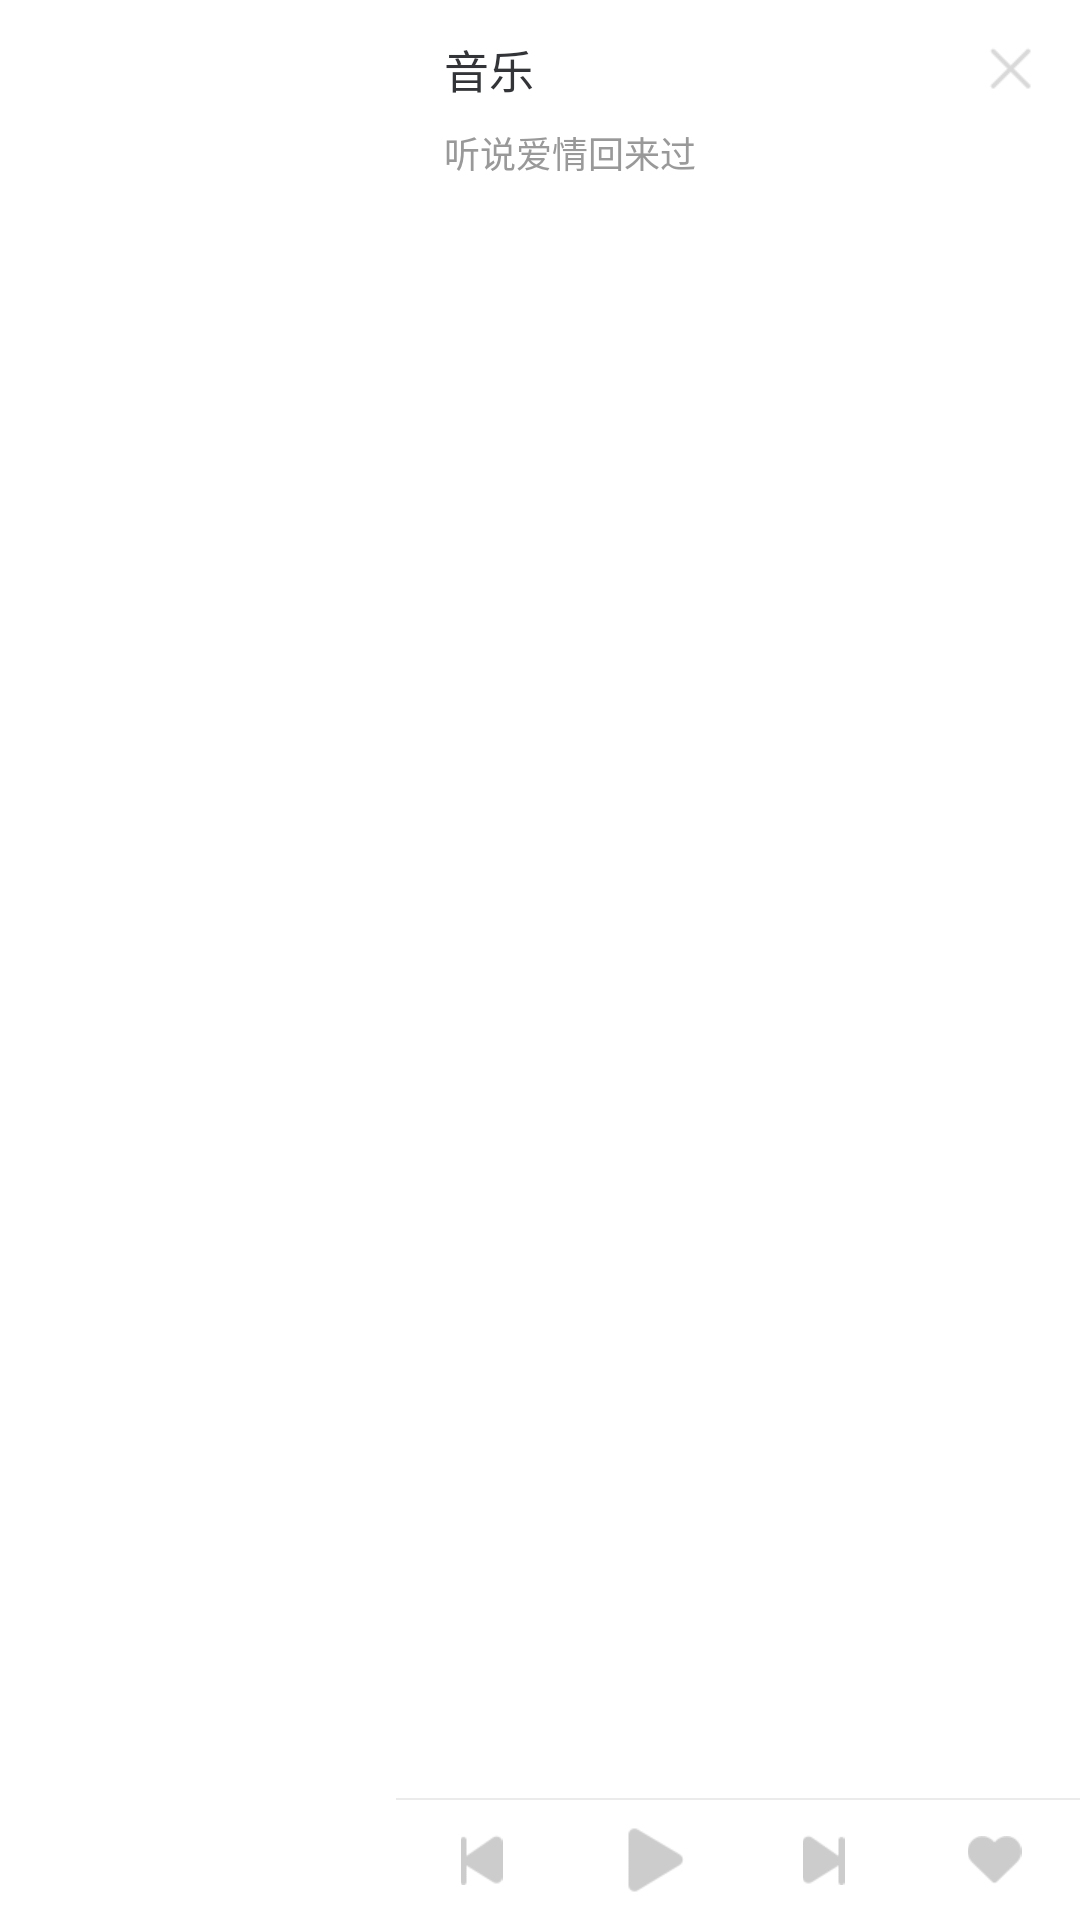

Named icons in this screenshot (1080x1920) and their centers, point (x, y):
back: point (482, 1861)
close: point (1011, 69)
like: point (995, 1859)
next: point (824, 1861)
